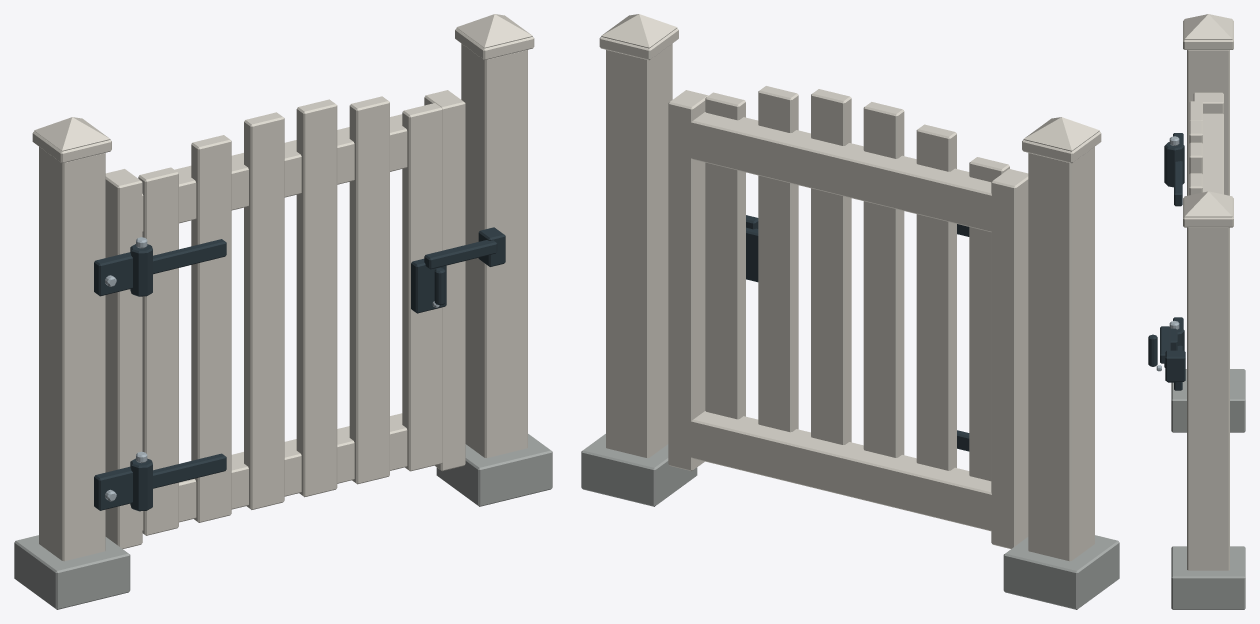
Rendered from b19_vinyl_pedestrian_gate.glb.
The picture shows the model from 3 angles, left to right: view 1: azimuth 30°, elevation 25°; view 2: azimuth 150°, elevation 25°; view 3: azimuth 270°, elevation 25°; orthographic projection. The views are drawn at different scales.
Parts seen in each view (by area): view 1: b19_vinyl_pedestrian_gate; view 2: b19_vinyl_pedestrian_gate; view 3: b19_vinyl_pedestrian_gate.
Boxes of the visible parts, bbox=[...] form: b19_vinyl_pedestrian_gate: bbox=[14, 14, 552, 609]; b19_vinyl_pedestrian_gate: bbox=[581, 14, 1119, 609]; b19_vinyl_pedestrian_gate: bbox=[1148, 14, 1245, 609].
Size of the model in its own units: 1.6 by 1.44 by 0.3147.
